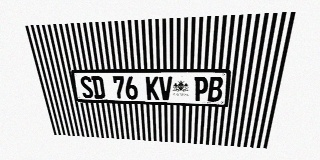6: (124, 76, 138, 100)
7: (112, 76, 126, 99)
B: (207, 77, 224, 102)
D: (91, 76, 105, 99)
K: (146, 76, 159, 100)
P: (193, 76, 209, 101)
S: (79, 76, 94, 98)
V: (159, 76, 172, 100)
